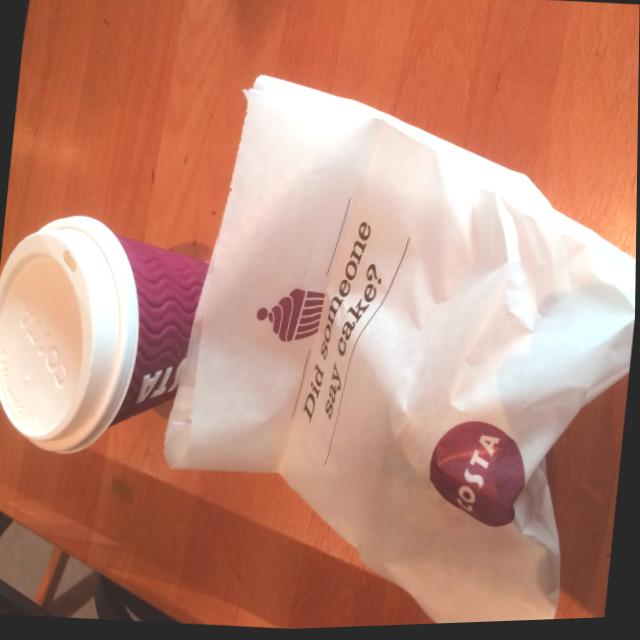Cup: (0, 196, 233, 458)
Paper: (132, 28, 639, 636)
